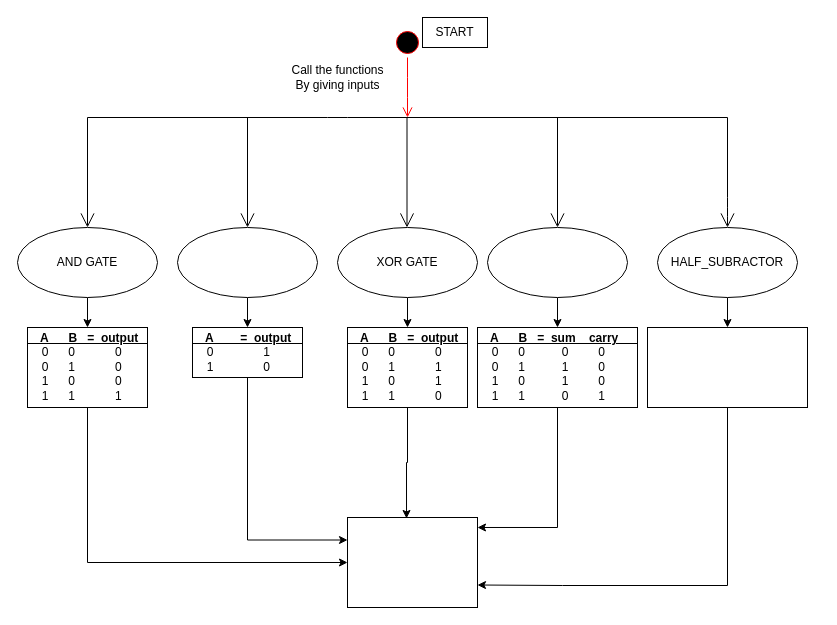
This 837x625 diagram has some shape labels left out. The centre of each missing label's shape, as x and y in pixels:
"A B = diff borrow 0 0 0 0 0 1 1 1 1 0 1 0 1 1 0 0" goes at point 727,367.
"HALF_ADDER" goes at point 557,262.
"NOT GATE" goes at point 247,262.
"OUTPUT" goes at point 412,562.
